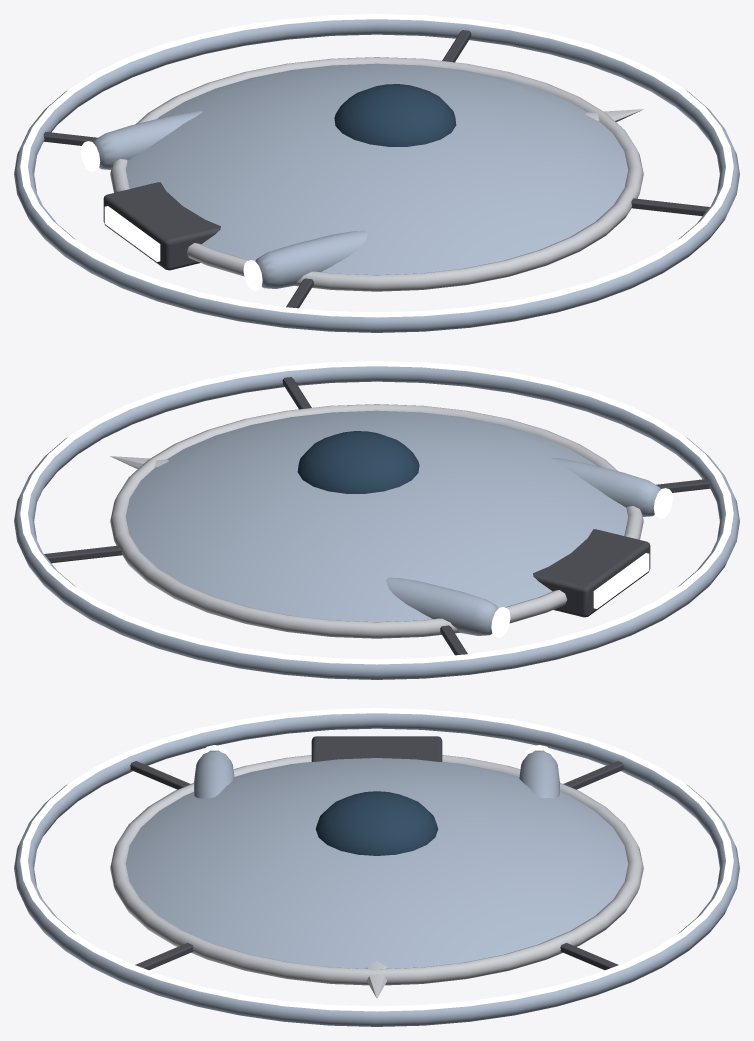
The model's file is saucer_large.glb.
The picture shows the model from 3 angles, top to bottom: view 1: azimuth 30°, elevation 25°; view 2: azimuth 150°, elevation 25°; view 3: azimuth 270°, elevation 25°; orthographic projection.
Parts seen in each view (by area): view 1: saucer_large; view 2: saucer_large; view 3: saucer_large.
Boxes of the visible parts, bbox=[...] form: saucer_large: bbox=[14, 14, 739, 332]; saucer_large: bbox=[14, 361, 739, 679]; saucer_large: bbox=[14, 708, 739, 1026].
Bounding box in the file's own units: 2 × 0.3724 × 2.
